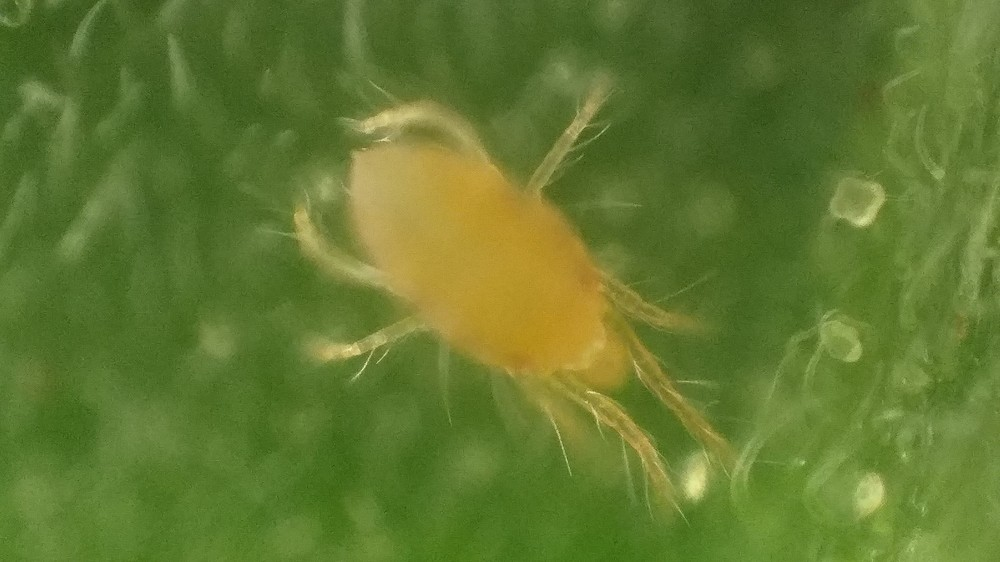Aracnido Rojo: (273, 70, 783, 531)
